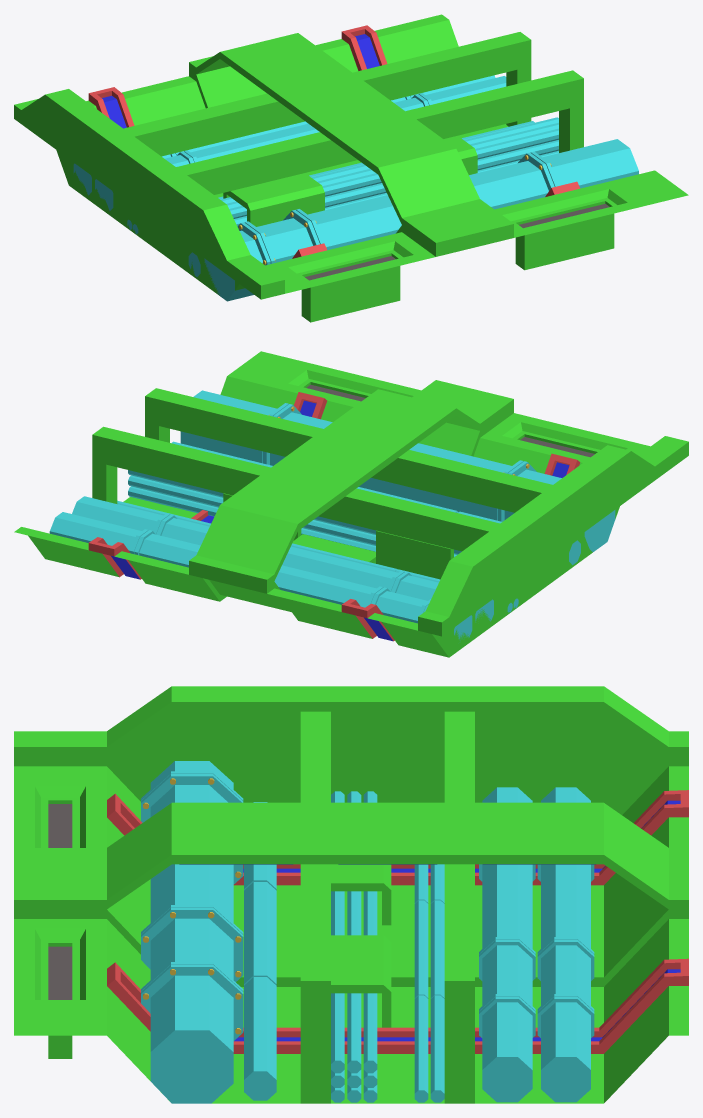
The model's file is Interior_Deco_03_C.fbx.
3 views of the same model, one above another, from view 1: azimuth 30°, elevation 25°; view 2: azimuth 150°, elevation 25°; view 3: azimuth 270°, elevation 25° (orthographic). The views are drawn at different scales.
Parts seen in each view (by area): view 1: Interior_Deco_03_C; view 2: Interior_Deco_03_C; view 3: Interior_Deco_03_C.
Boxes of the visible parts, x1,y1,x2,y2 form: Interior_Deco_03_C: (14, 14, 688, 322); Interior_Deco_03_C: (14, 351, 688, 657); Interior_Deco_03_C: (14, 686, 688, 1103).
Size of the model in its own units: 457 by 98.92 by 457.
